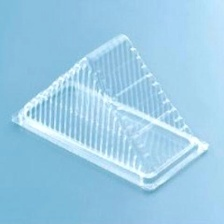plastic_box: (7, 27, 215, 198)
